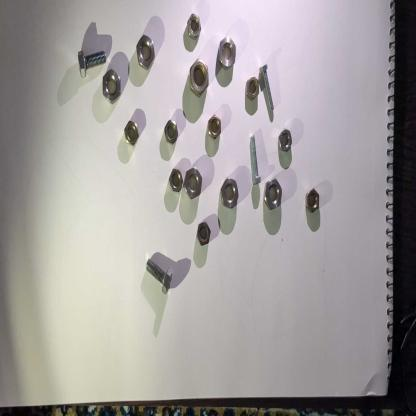Bolts: (74, 39, 110, 81), (143, 256, 175, 299), (246, 131, 264, 195), (257, 64, 279, 116)
NUTS: (133, 31, 159, 74), (100, 66, 125, 109), (186, 56, 210, 100), (217, 33, 238, 74), (182, 165, 202, 205), (219, 175, 240, 213), (261, 178, 283, 214), (122, 117, 141, 149), (184, 9, 204, 39), (204, 111, 224, 140), (303, 187, 323, 216), (242, 76, 260, 102), (276, 127, 292, 156), (168, 165, 182, 196), (196, 219, 210, 249), (164, 118, 178, 147)
